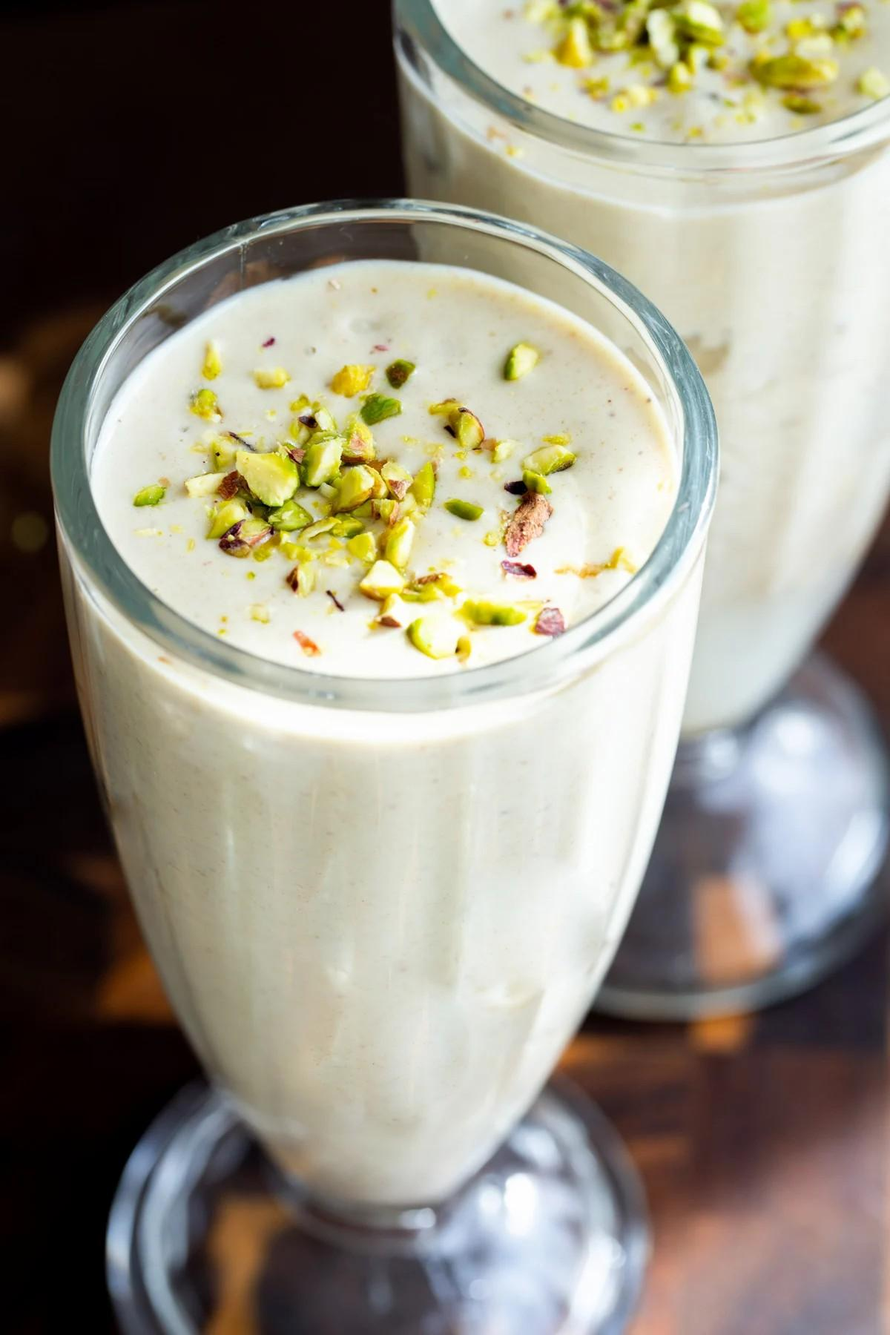Lassi: (57, 262, 716, 1237), (409, 2, 890, 748)
